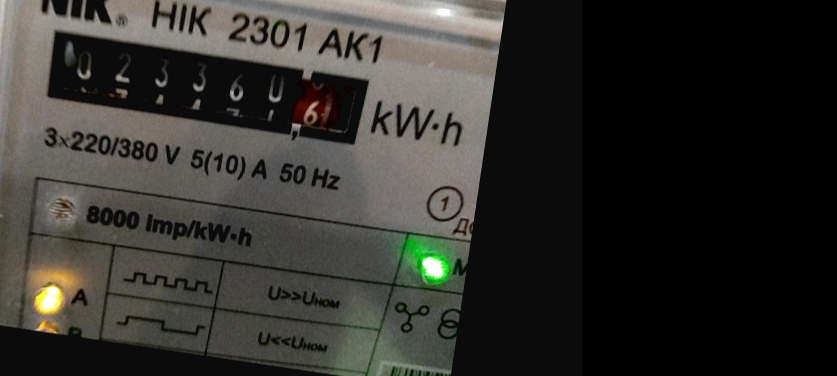0: (69, 44, 96, 82), (260, 69, 287, 106)
2: (109, 48, 135, 86)
3: (147, 54, 172, 91), (186, 59, 209, 95)
6: (222, 67, 247, 103), (298, 93, 320, 128)
screen: (26, 16, 388, 165)
